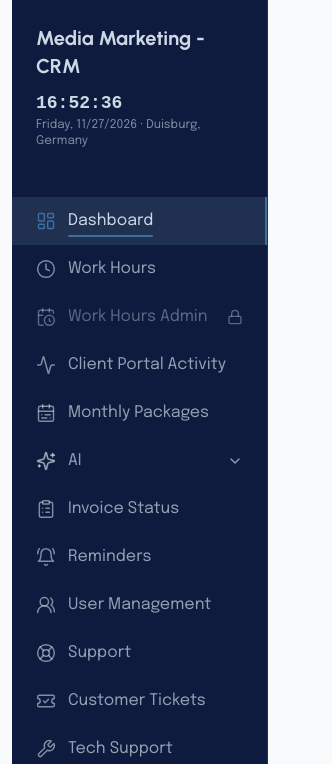
Test: Sidebar AI group › no longer lists AI Outreach or Services Knowledge as top-level items
The width and height of the screenshot is (332, 764).
Click the button "AI". click: (140, 461)
box: [12,437,267,485]
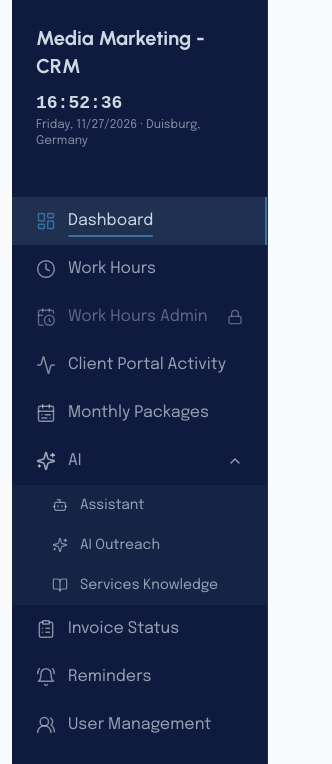
Now the number of links "AI Outreach" is 1, box [52,537,160,553]
Now the number of links "Services Knowledge" is 1, box [52,577,218,593]
